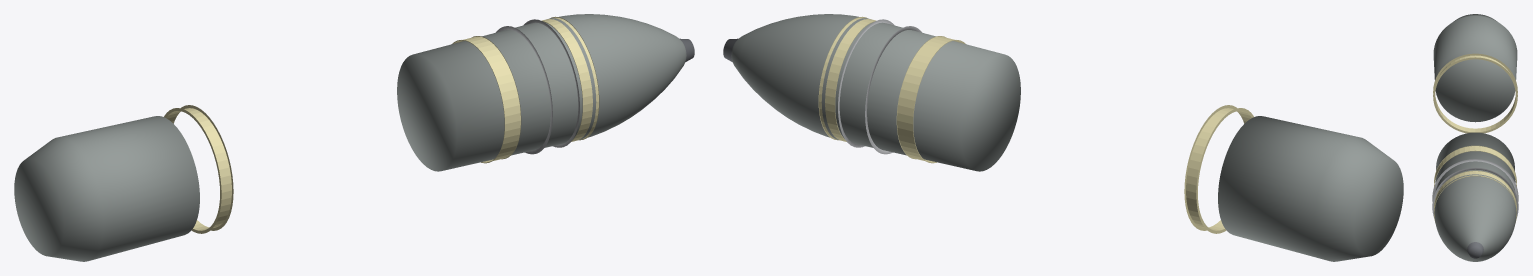
Rendered from RU_SLBM_R27_LOD0.fbx.
3 renders of one model, left to right at view 1: azimuth 30°, elevation 25°; view 2: azimuth 150°, elevation 25°; view 3: azimuth 270°, elevation 25°, orthographic. The views are drawn at different scales.
Visible parts, largest first — view 1: WPN_RU_SLBM_R27_LOD0_Body, WPN_RU_SLBM_R27_LOD0_Tail, WPN_RU_SLBM_R27_LOD0_Marking, WPN_RU_SLBM_R27_LOD0_Detail; view 2: WPN_RU_SLBM_R27_LOD0_Body, WPN_RU_SLBM_R27_LOD0_Tail, WPN_RU_SLBM_R27_LOD0_Marking, WPN_RU_SLBM_R27_LOD0_Detail; view 3: WPN_RU_SLBM_R27_LOD0_Body, WPN_RU_SLBM_R27_LOD0_Tail, WPN_RU_SLBM_R27_LOD0_Marking, WPN_RU_SLBM_R27_LOD0_Detail, WPN_RU_SLBM_R27_LOD0_Nose.
Boxes of the visible parts, bbox=[...] form: WPN_RU_SLBM_R27_LOD0_Body: bbox=[397, 14, 686, 171]; WPN_RU_SLBM_R27_LOD0_Tail: bbox=[14, 116, 199, 261]; WPN_RU_SLBM_R27_LOD0_Marking: bbox=[164, 16, 599, 233]; WPN_RU_SLBM_R27_LOD0_Detail: bbox=[496, 19, 579, 154]; WPN_RU_SLBM_R27_LOD0_Body: bbox=[731, 14, 1020, 171]; WPN_RU_SLBM_R27_LOD0_Tail: bbox=[1218, 116, 1403, 261]; WPN_RU_SLBM_R27_LOD0_Marking: bbox=[818, 16, 1253, 233]; WPN_RU_SLBM_R27_LOD0_Detail: bbox=[838, 19, 921, 154]; WPN_RU_SLBM_R27_LOD0_Body: bbox=[1434, 132, 1516, 261]; WPN_RU_SLBM_R27_LOD0_Tail: bbox=[1433, 14, 1517, 122]; WPN_RU_SLBM_R27_LOD0_Marking: bbox=[1433, 53, 1517, 222]; WPN_RU_SLBM_R27_LOD0_Detail: bbox=[1432, 159, 1518, 217]; WPN_RU_SLBM_R27_LOD0_Nose: bbox=[1467, 242, 1483, 258].
Bounding box in the file's own units: 9 × 1.58 × 1.58.
